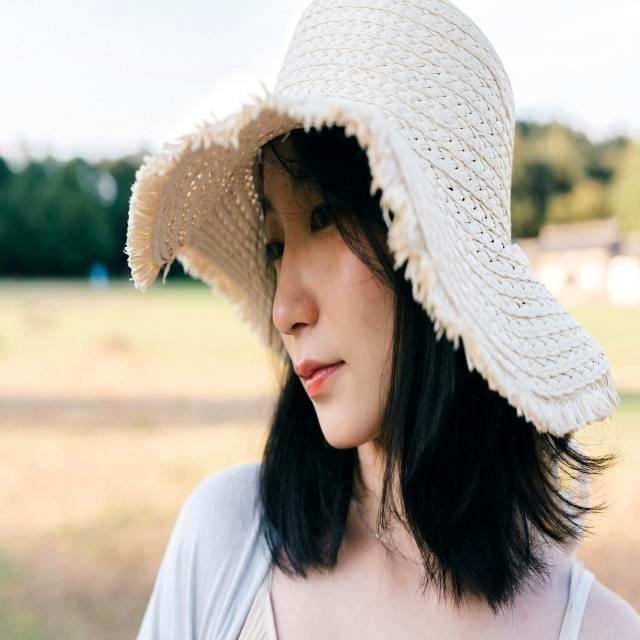no_hard_hat: (126, 0, 617, 435)
person: (121, 0, 640, 640)
